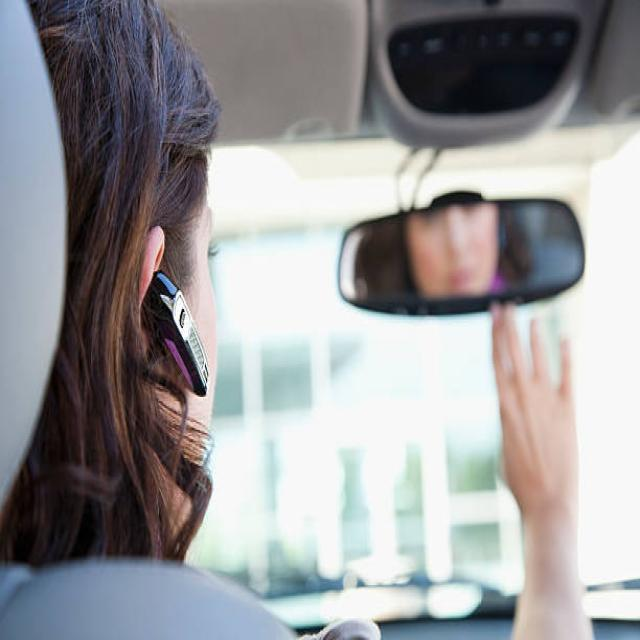airpods: (140, 267, 213, 400)
